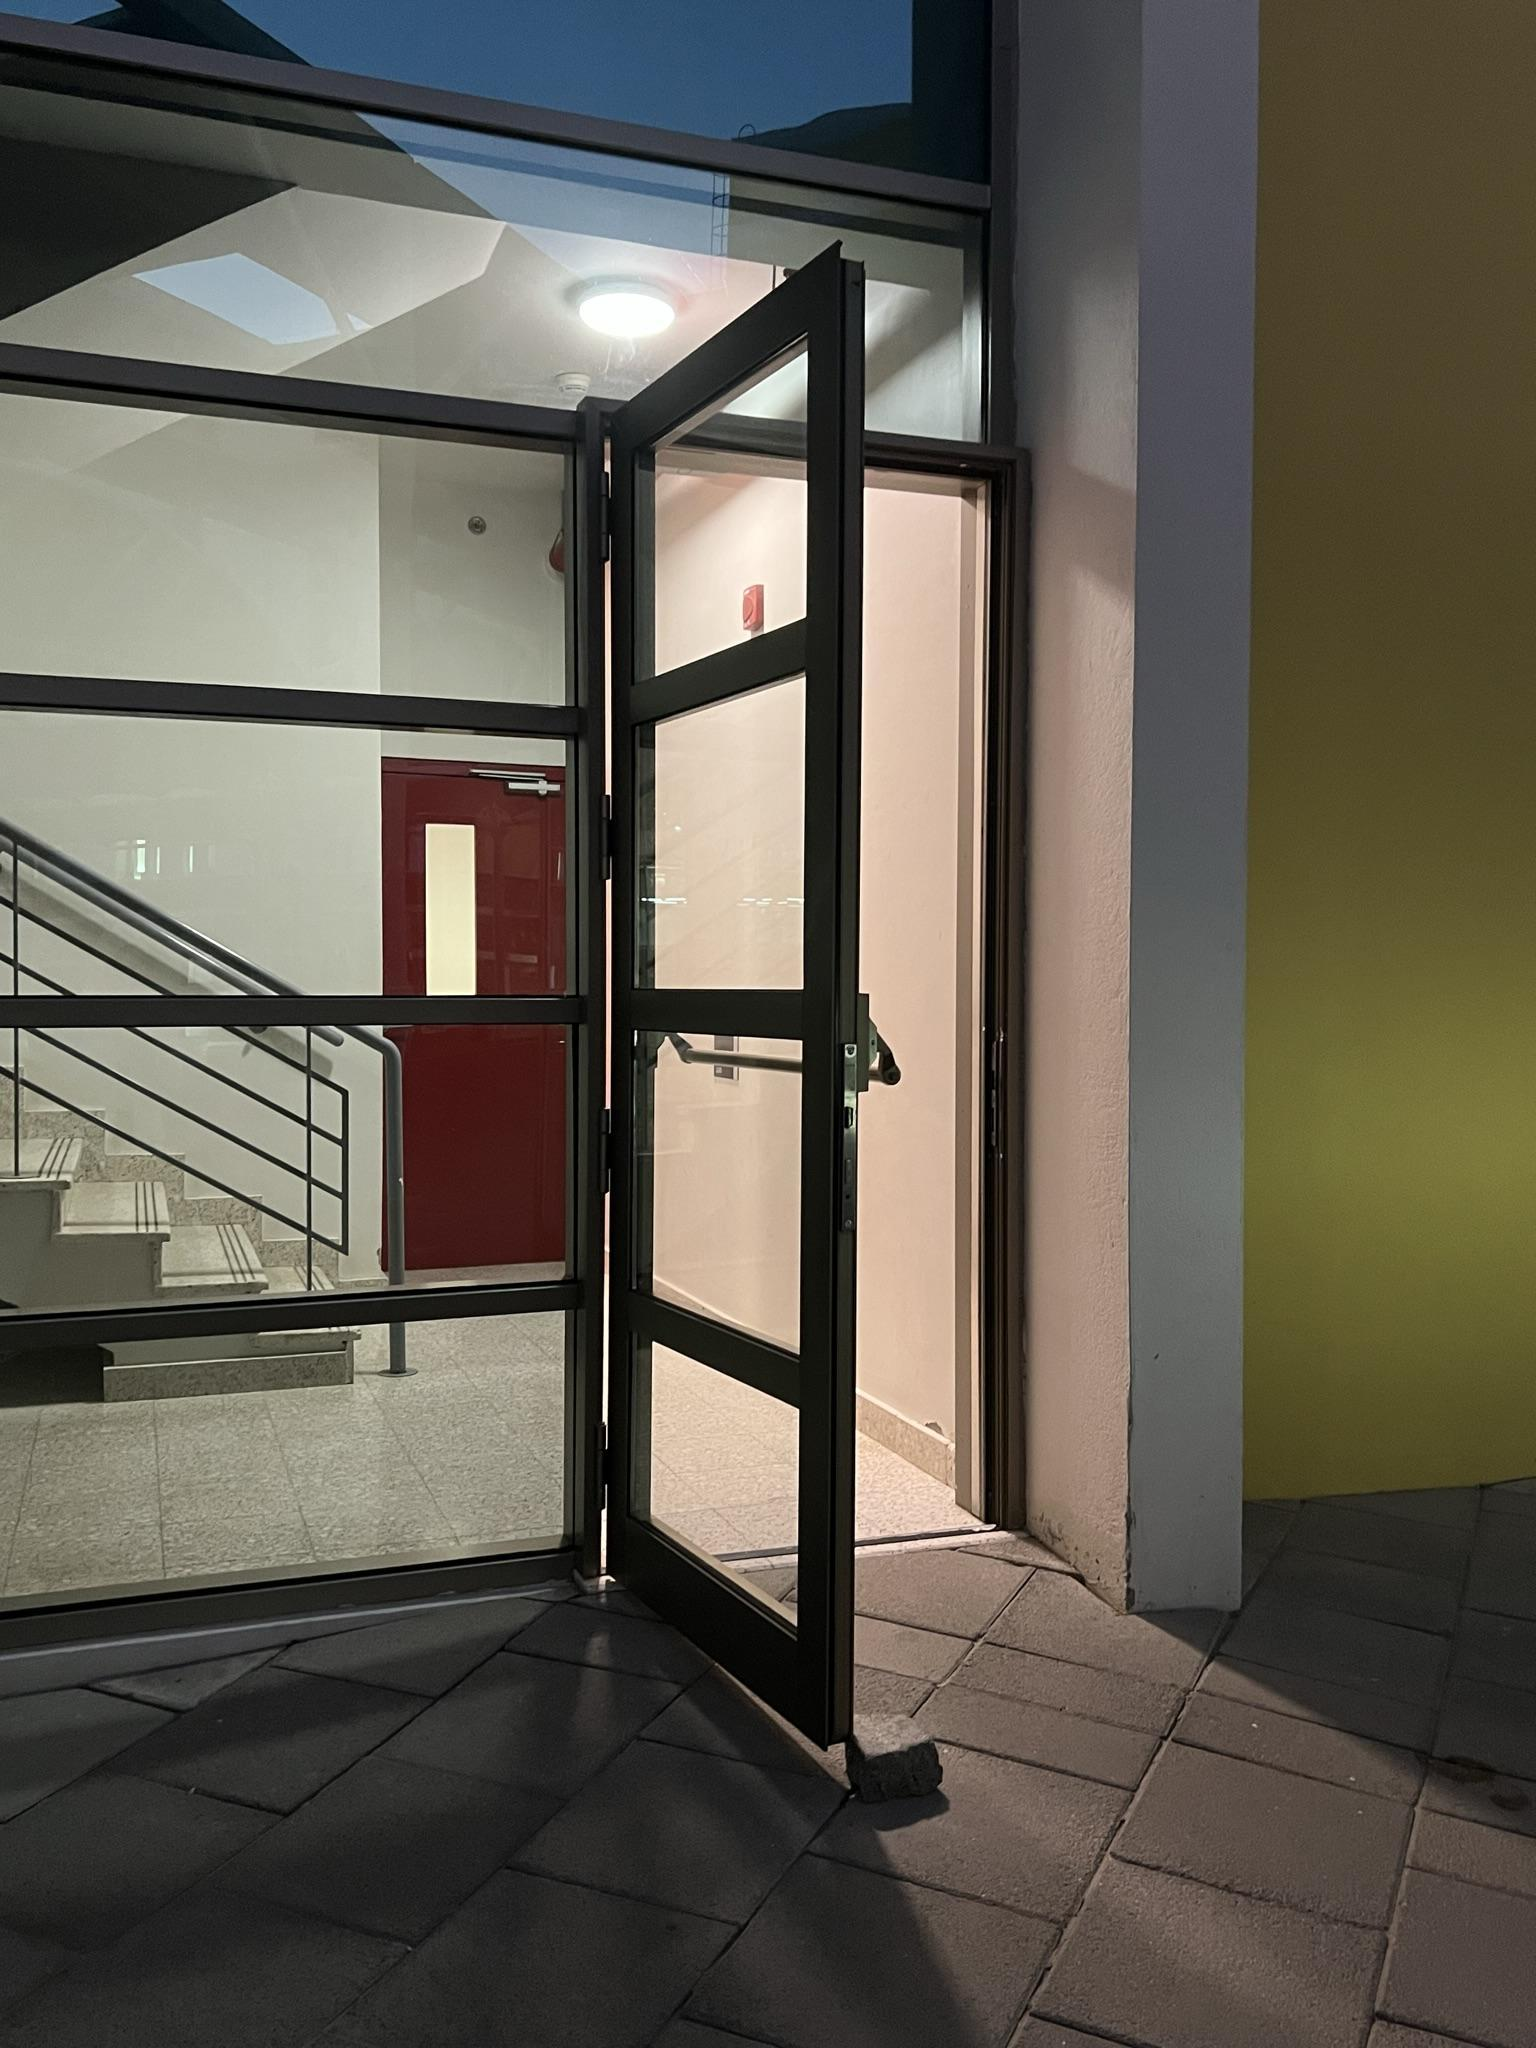door: (599, 247, 865, 1709)
